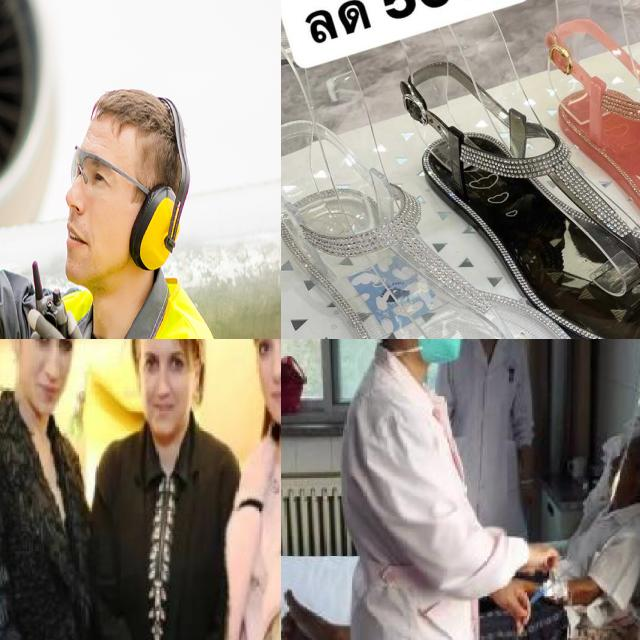Ear-protection: (130, 180, 178, 275)
Sandals: (281, 80, 630, 339), (394, 49, 640, 339), (522, 0, 640, 310)
face_mask: (404, 339, 464, 371)
face_nomask: (136, 339, 187, 439), (16, 339, 76, 408), (253, 339, 281, 427)
glasses: (68, 144, 138, 198)
hand_glove: (28, 301, 89, 339)
hand_noglove: (495, 582, 532, 636), (520, 540, 560, 578), (521, 484, 537, 510)
person: (0, 4, 236, 339), (281, 427, 640, 640), (307, 339, 522, 640), (107, 339, 234, 640), (0, 339, 122, 640), (439, 339, 561, 572)
vest: (14, 270, 236, 339)
